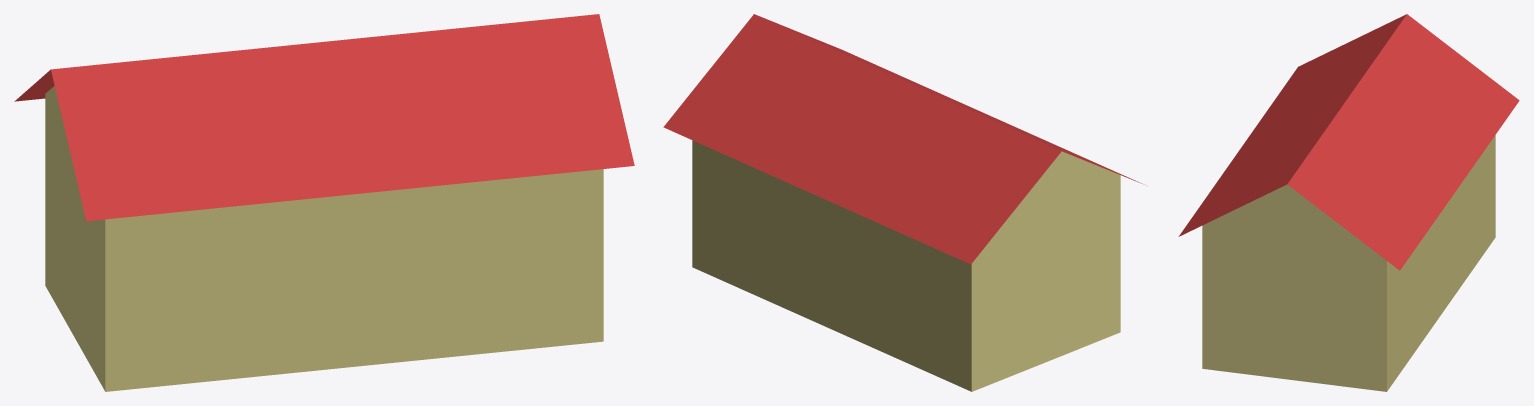
The picture shows the model from 3 angles, left to right: view 1: azimuth 30°, elevation 25°; view 2: azimuth 150°, elevation 25°; view 3: azimuth 270°, elevation 25°; orthographic projection. The views are drawn at different scales.
Size of the model in its own units: 24.37 by 17.75 by 11.68.
